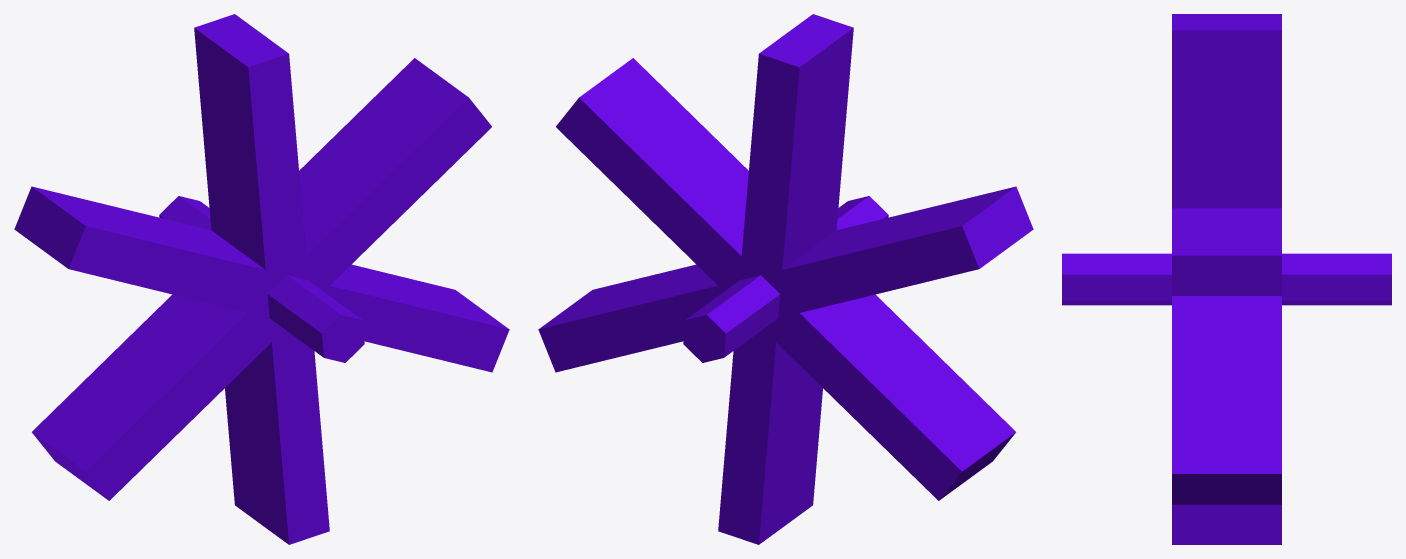
Rendered from excavator.fbx.
3 views of the same model, side by side, from view 1: azimuth 30°, elevation 25°; view 2: azimuth 150°, elevation 25°; view 3: azimuth 270°, elevation 25° (orthographic).
Parts seen in each view (by area): view 1: Circle; view 2: Circle; view 3: Circle.
Part boxes in pixels (box(x1,y1,x2,y2)): Circle: box(14, 14, 509, 544); Circle: box(538, 14, 1033, 544); Circle: box(1062, 14, 1391, 544).
Bounding box in the file's own units: 188 × 200 × 120.
